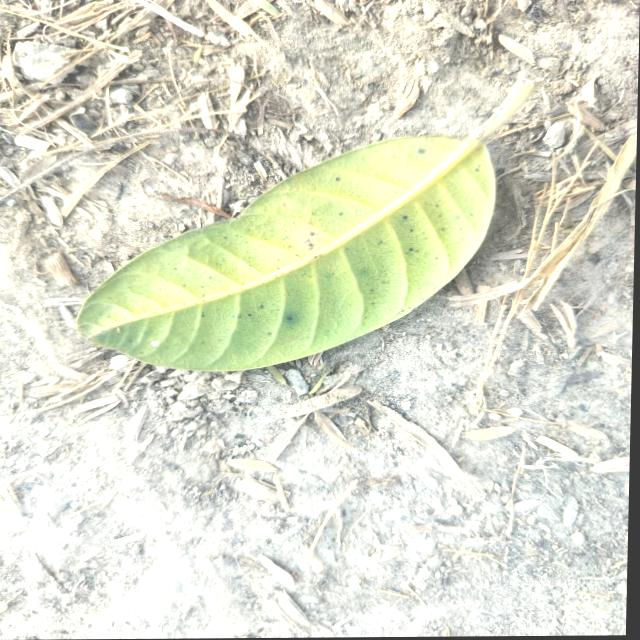black die: (414, 148, 428, 156), (285, 316, 294, 323), (401, 215, 407, 221), (417, 148, 424, 153), (334, 176, 340, 180)
